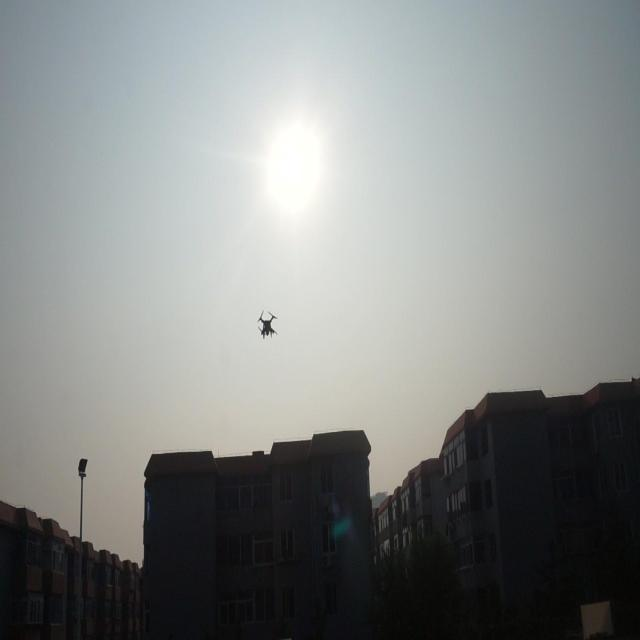drone: (255, 308, 279, 339)
